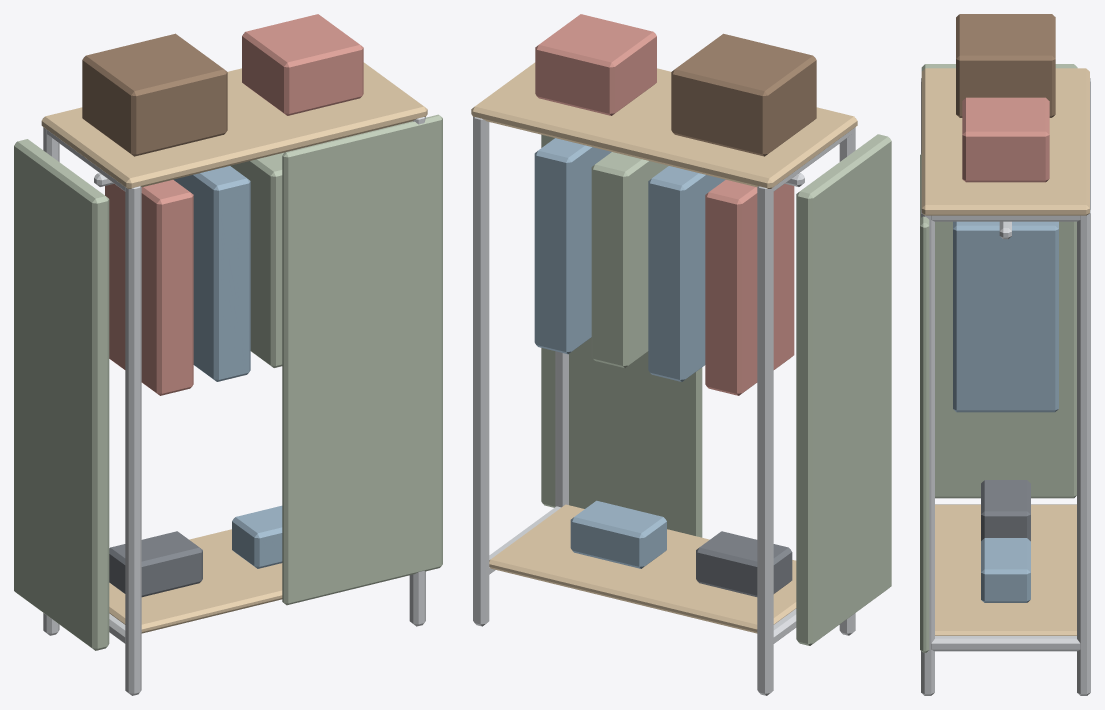
Rendered from CapsuleWardrobe_Freestanding.glb.
The picture shows the model from 3 angles, left to right: view 1: azimuth 30°, elevation 25°; view 2: azimuth 150°, elevation 25°; view 3: azimuth 270°, elevation 25°; orthographic projection. The views are drawn at different scales.
Visible parts, largest first — view 1: CapsuleWardrobe_Freestanding_Body; view 2: CapsuleWardrobe_Freestanding_Body; view 3: CapsuleWardrobe_Freestanding_Body.
Part boxes in pixels (x1,y1,x2,y2): CapsuleWardrobe_Freestanding_Body: (14, 14, 442, 695); CapsuleWardrobe_Freestanding_Body: (471, 14, 891, 695); CapsuleWardrobe_Freestanding_Body: (920, 14, 1090, 695).
Size of the model in its own units: 1.23 by 1.97 by 0.5475.
